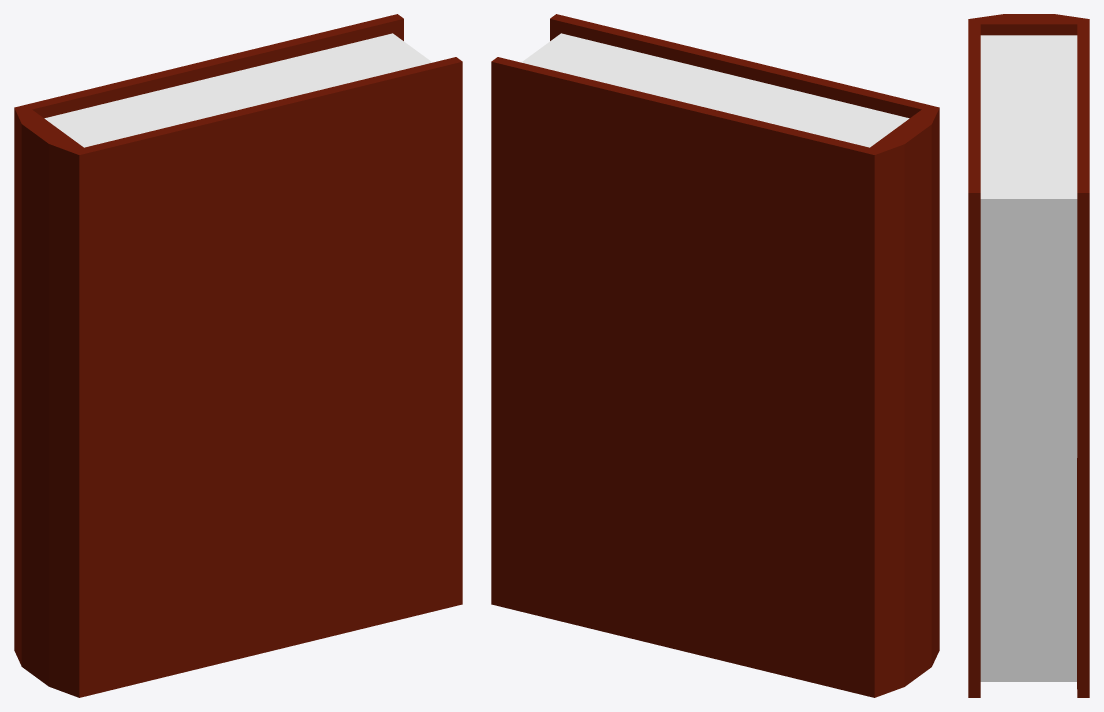
The model's file is Book.FBX.
3 views of the same model, side by side, from view 1: azimuth 30°, elevation 25°; view 2: azimuth 150°, elevation 25°; view 3: azimuth 270°, elevation 25° (orthographic). The views are drawn at different scales.
Visible parts, largest first — view 1: Book; view 2: Book; view 3: Book.
Boxes of the visible parts, x1,y1,x2,y2 form: Book: (14,14,462,697); Book: (491,14,939,697); Book: (968,14,1089,697).
Size of the model in its own units: 17.5 by 23 by 5.
